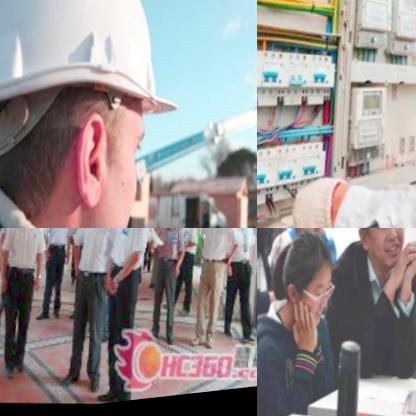head: (272, 230, 336, 331), (346, 228, 412, 277)
helmet: (0, 0, 197, 228), (232, 228, 255, 237)
